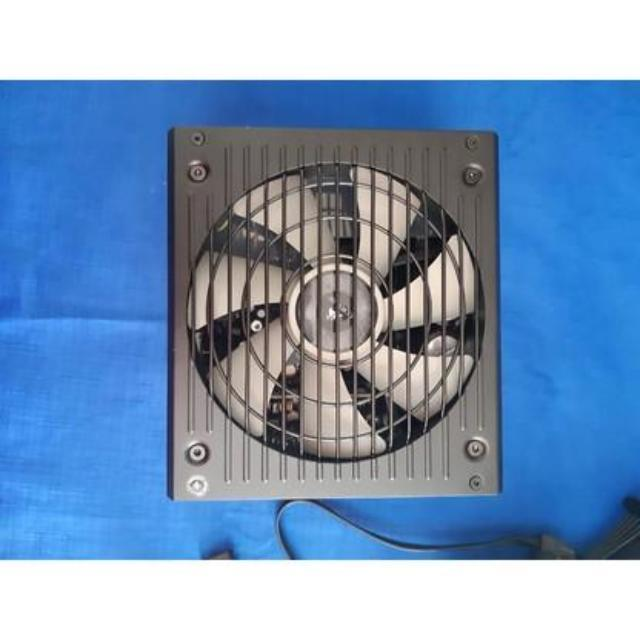PSU: (164, 118, 508, 508)
